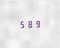eight: (26, 20, 32, 27)
five: (18, 20, 24, 28)
nine: (33, 19, 39, 27)
